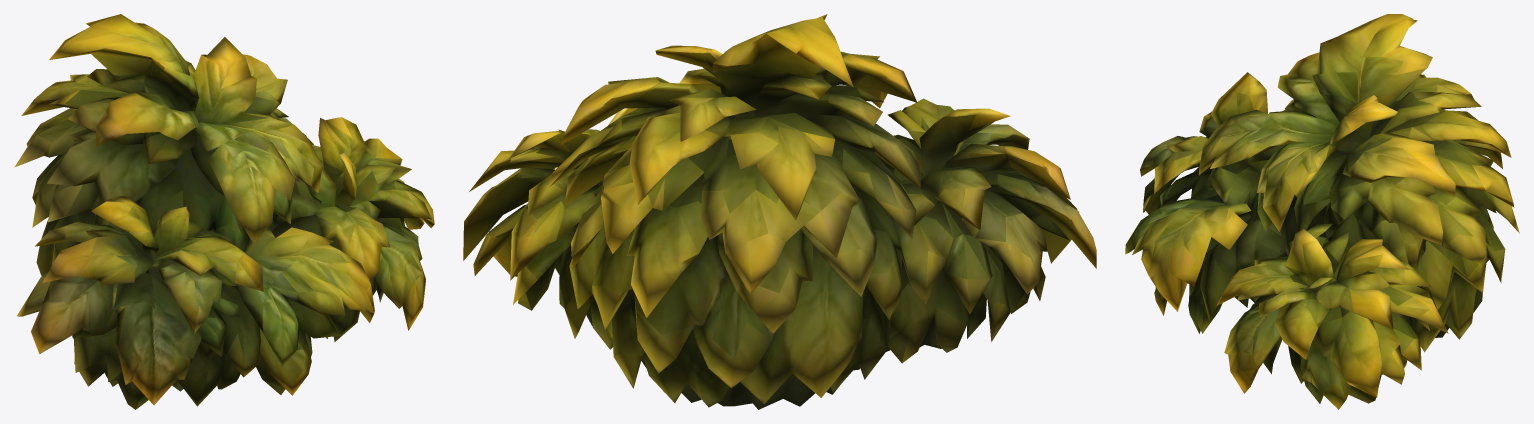
Rendered from shrub.glb.
3 renders of one model, left to right at view 1: azimuth 30°, elevation 25°; view 2: azimuth 150°, elevation 25°; view 3: azimuth 270°, elevation 25°, orthographic. The views are drawn at different scales.
Visible parts, largest first — view 1: tripo_node_bf7b8700-a599-4b32-b7f1-8bb0d6609522; view 2: tripo_node_bf7b8700-a599-4b32-b7f1-8bb0d6609522; view 3: tripo_node_bf7b8700-a599-4b32-b7f1-8bb0d6609522.
Part boxes in pixels (box(x1,y1,x2,y2)): tripo_node_bf7b8700-a599-4b32-b7f1-8bb0d6609522: box(14, 14, 434, 409); tripo_node_bf7b8700-a599-4b32-b7f1-8bb0d6609522: box(463, 14, 1096, 409); tripo_node_bf7b8700-a599-4b32-b7f1-8bb0d6609522: box(1125, 14, 1519, 409).
Bounding box in the file's own units: 1.53 × 1 × 1.25.
1 material, 1 textured.
